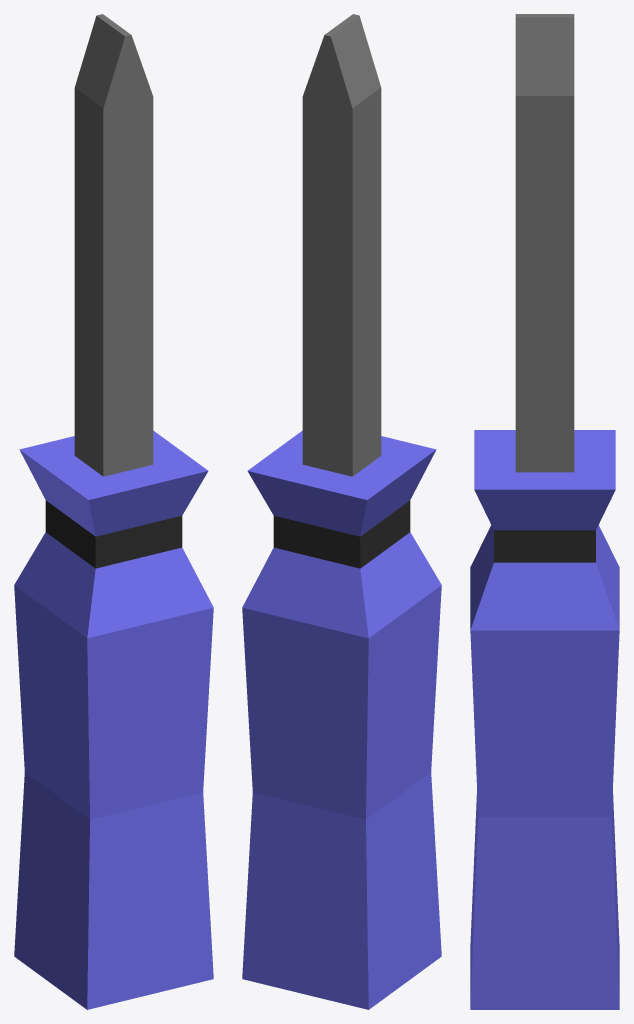
The model's file is ScrewDriverBlue.fbx.
The picture shows the model from 3 angles, left to right: view 1: azimuth 30°, elevation 25°; view 2: azimuth 150°, elevation 25°; view 3: azimuth 270°, elevation 25°; orthographic projection. The views are drawn at different scales.
Visible parts, largest first — view 1: ScrewDriverBlue; view 2: ScrewDriverBlue; view 3: ScrewDriverBlue.
Boxes of the visible parts, x1,y1,x2,y2 form: ScrewDriverBlue: (14,14,213,1009); ScrewDriverBlue: (242,14,441,1009); ScrewDriverBlue: (470,14,619,1009).
Bounding box in the file's own units: 0.0496 × 0.3528 × 0.0496.
